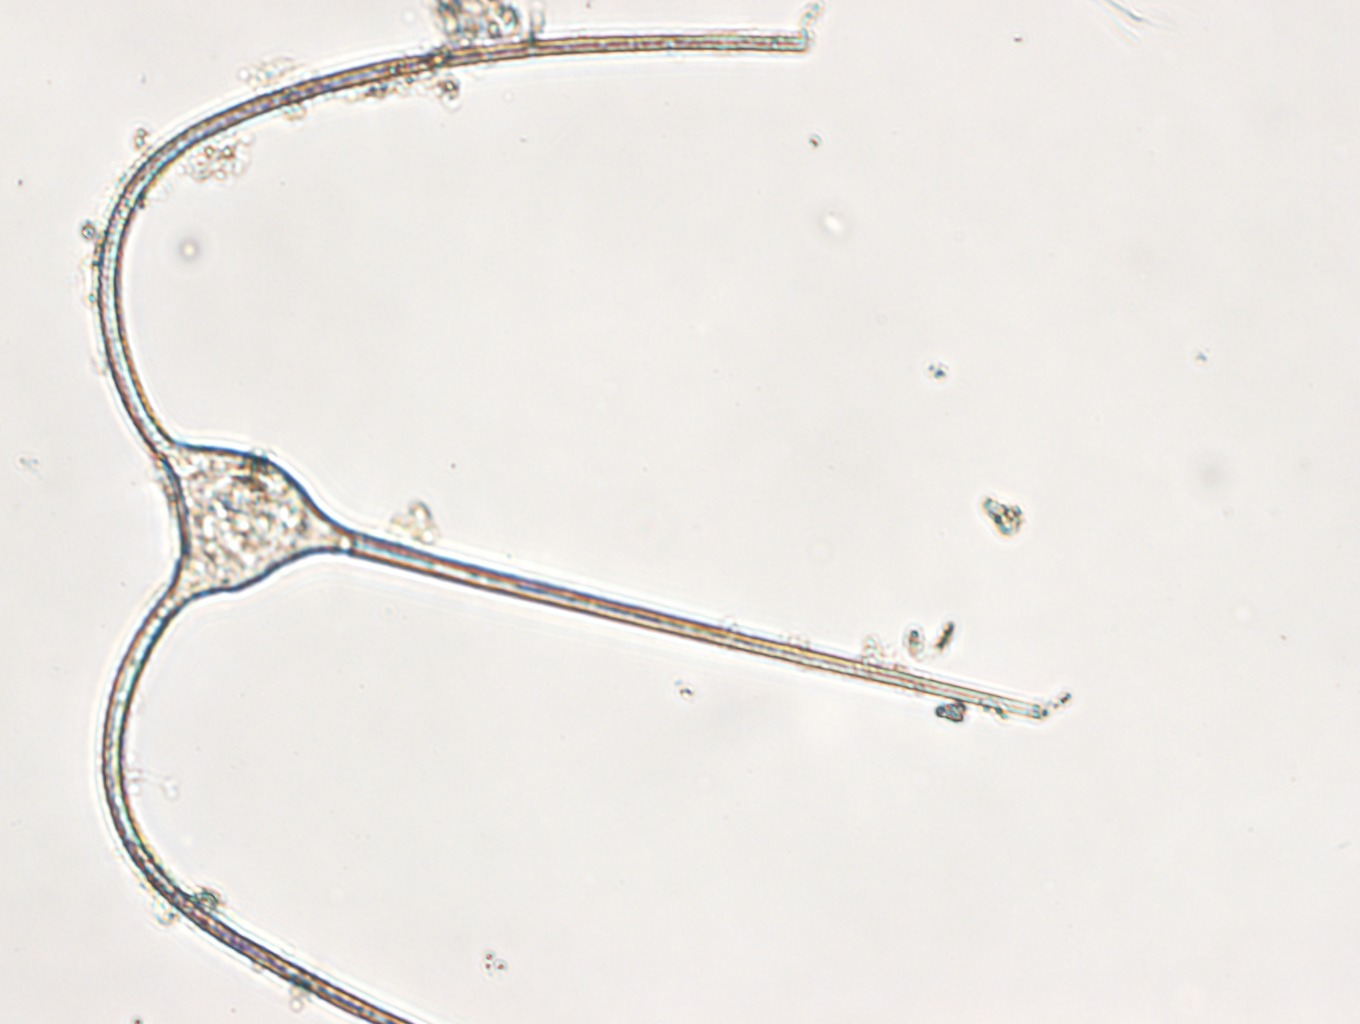ceratium trichoceros: (96, 27, 1047, 1024)
